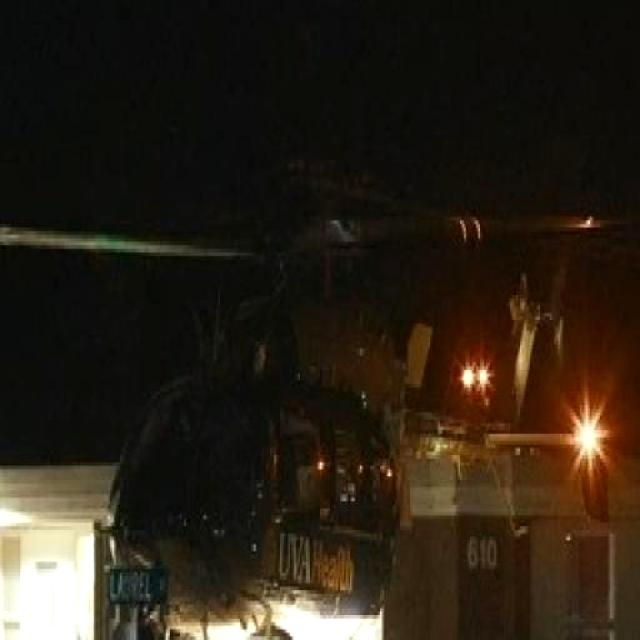drone: (95, 181, 628, 640)
